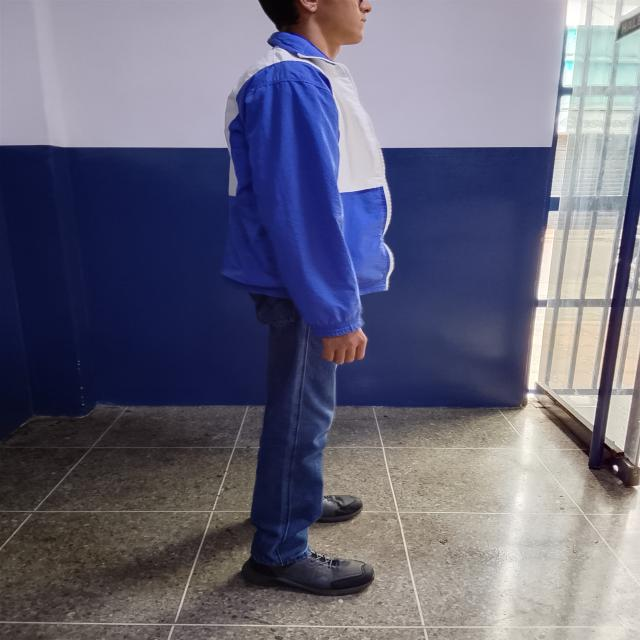chaqueta_unefa: (220, 31, 395, 338)
